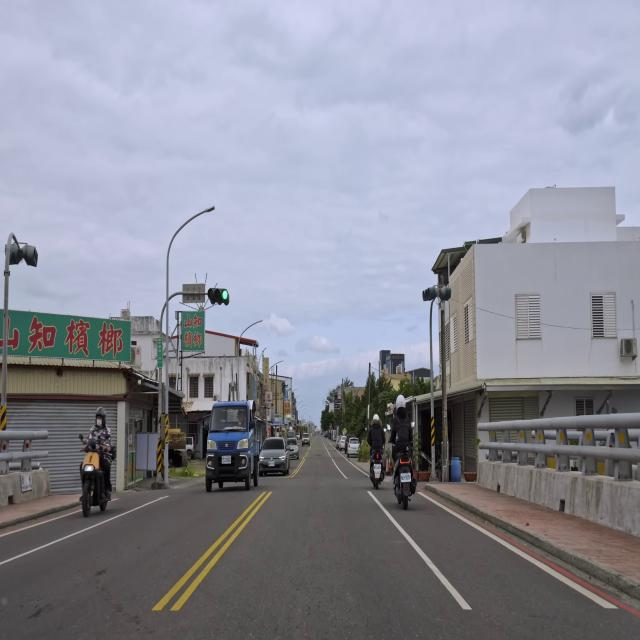green light: (208, 286, 230, 306)
